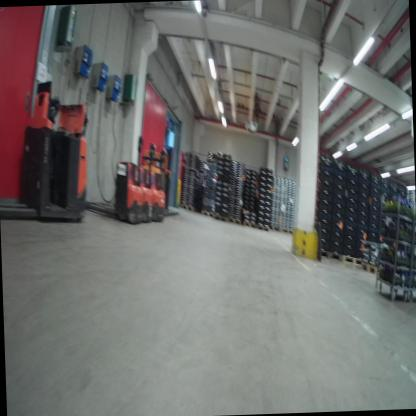pallet: (315, 245, 343, 262), (340, 251, 362, 266), (362, 259, 381, 275), (181, 201, 198, 213), (199, 209, 216, 220), (240, 220, 258, 230), (214, 212, 230, 223), (254, 222, 270, 233), (280, 225, 294, 237), (229, 215, 241, 225), (269, 223, 283, 231)
pallet_truck: (0, 74, 102, 227), (79, 138, 148, 228), (135, 139, 162, 227), (151, 145, 174, 232)
